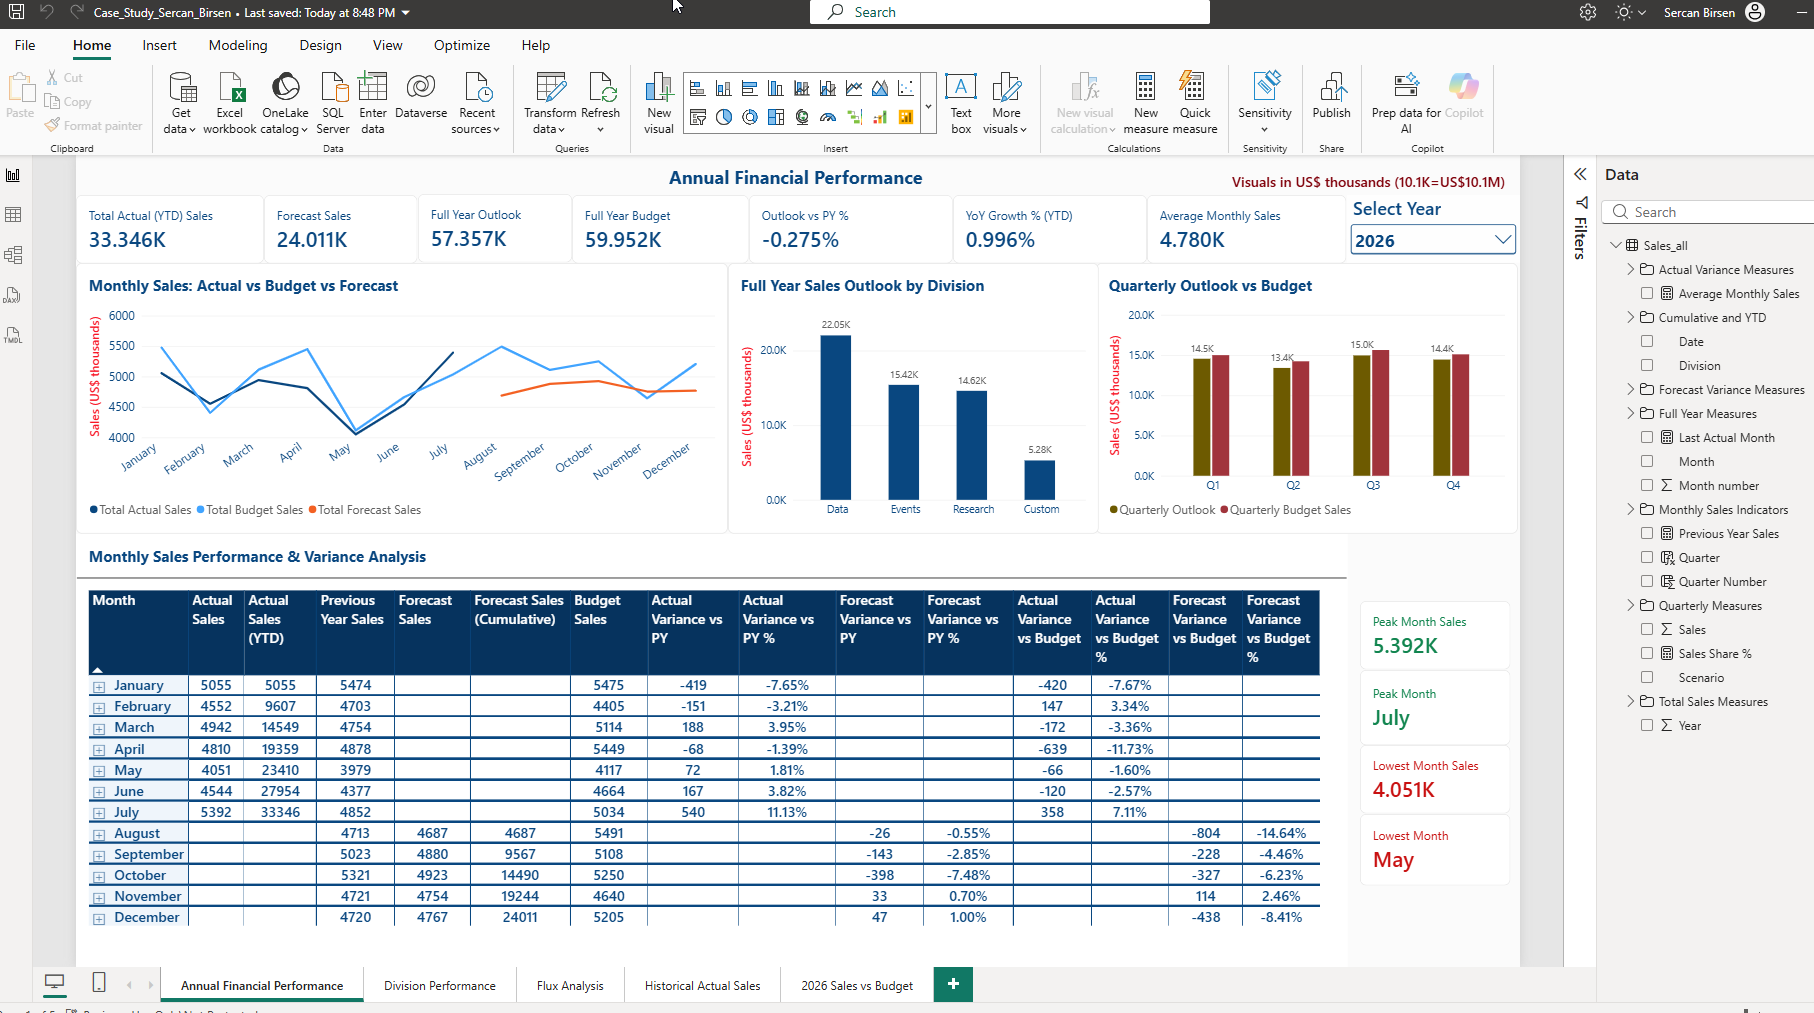

What the dashboard file says about the page in this screenshot:
{"tool":"powerbi","page":{"name":"Annual Financial Performance","canvas":[1920,1080],"ordinal":0},"visuals":[{"type":"slicer","fields":{"Values":["Sales_all.Year"]},"box":[1690.5,53.2,230.1,90.4],"z":0},{"type":"cardVisual","fields":{"Data":["Sales_all.Full Year Outlook"]},"box":[454.9,51.9,205,91.7],"z":1000},{"type":"cardVisual","fields":{"Data":["Sales_all.Total Budget Sales"]},"box":[659.7,53.2,235.4,91.8],"z":2000},{"type":"cardVisual","fields":{"Data":["Sales_all.Total Forecast Sales"]},"box":[250,53.2,204.8,91.8],"z":3000},{"type":"cardVisual","fields":{"Data":["Sales_all.Total Actual Sales"]},"box":[0,53.3,250,91.7],"z":4000},{"type":"cardVisual","fields":{"Data":["Sales_all.Full Year Outlook vs PY %"]},"box":[895.1,53.2,271.3,91.8],"z":5000},{"type":"lineChart","title":"Monthly Sales: Actual vs Budget vs Forecast","fields":{"Category":["Sales_all.Month"],"Y":["Sales_all.Total Actual Sales","Sales_all.Total Budget Sales","Sales_all.Total Forecast Sales"]},"box":[0,144.3,867.1,360],"z":6000},{"type":"pivotTable","title":"Monthly Sales Performance & Variance Analysis","fields":{"Rows":["Sales_all.Month","Sales_all.Division"],"Values":["Sales_all.Total Actual Sales","Sales_all.Actual Sales (YTD)","Sales_all.Previous Year Sales","Sales_all.Total Forecast Sales","Sales_all.Forecast Sales (Cumulative)","Sales_all.Total Budget Sales","Sales_all.Sales Variance vs PY","Sales_all.Actual Variance vs PY %","Sales_all.Forecast Variance vs PY","Sales_all.Forecast Variance vs PY %","Sales_all.Actual vs Budget","Sales_all.Actual vs Budget %"]},"box":[0,503.5,1690.6,576.4],"z":7000},{"type":"textbox","box":[1537.1,22.9,371.4,30],"z":8000},{"type":"cardVisual","fields":{"Data":["Sales_all.YoY Growth % (YTD)"]},"box":[1166.5,53.2,258,91.8],"z":9000},{"type":"cardVisual","fields":{"Data":["Sales_all.Average Monthly Sales"]},"box":[1424.5,53.2,265,91.7],"z":10000},{"type":"clusteredColumnChart","title":"Quarterly Outlook vs Budget","fields":{"Category":["Sales_all.Quarter"],"Y":["Sales_all.Quarterly Outlook","Sales_all.Total Budget Sales"]},"box":[1357.1,144.3,561.4,360],"z":11000},{"type":"columnChart","title":"Full Year Sales Outlook by Division","fields":{"Category":["Sales_all.Division"],"Y":["Sales_all.Full Year Outlook"]},"box":[867.1,144.3,492.9,360],"z":12000},{"type":"cardVisual","fields":{"Data":["Sales_all.Peak Month Sales"]},"box":[1708.3,593.3,200,91.7],"z":13000},{"type":"cardVisual","fields":{"Data":["Sales_all.Peak Month"]},"box":[1708.3,685,200,100],"z":14000},{"type":"textbox","box":[788.6,11.4,341.4,41.4],"z":15000},{"type":"cardVisual","fields":{"Data":["Sales_all.Lowest Sales Month"]},"box":[1708.3,876.7,200,95],"z":16001},{"type":"cardVisual","fields":{"Data":["Sales_all.Lowest Month Sales"]},"box":[1708.3,785,200,91.7],"z":16002}]}

Visuals, with their boxes on the page's 1920x1080 design canvas (x1, y1, x2, y2). These are canvas units, not pixel positions in the 1814x1013 screenshot, which may show the page scaled, cropped or inside an application window:
slicer - Sales_all.Year: Rect(1690, 53, 1921, 144)
cardVisual - Sales_all.Full Year Outlook: Rect(455, 52, 660, 144)
cardVisual - Sales_all.Total Budget Sales: Rect(660, 53, 895, 145)
cardVisual - Sales_all.Total Forecast Sales: Rect(250, 53, 455, 145)
cardVisual - Sales_all.Total Actual Sales: Rect(0, 53, 250, 145)
cardVisual - Sales_all.Full Year Outlook vs PY %: Rect(895, 53, 1166, 145)
"Monthly Sales: Actual vs Budget vs Forecast" lineChart: Rect(0, 144, 867, 504)
"Monthly Sales Performance & Variance Analysis" pivotTable: Rect(0, 504, 1691, 1080)
textbox: Rect(1537, 23, 1908, 53)
cardVisual - Sales_all.YoY Growth % (YTD): Rect(1166, 53, 1424, 145)
cardVisual - Sales_all.Average Monthly Sales: Rect(1424, 53, 1690, 145)
"Quarterly Outlook vs Budget" clusteredColumnChart: Rect(1357, 144, 1918, 504)
"Full Year Sales Outlook by Division" columnChart: Rect(867, 144, 1360, 504)
cardVisual - Sales_all.Peak Month Sales: Rect(1708, 593, 1908, 685)
cardVisual - Sales_all.Peak Month: Rect(1708, 685, 1908, 785)
textbox: Rect(789, 11, 1130, 53)
cardVisual - Sales_all.Lowest Sales Month: Rect(1708, 877, 1908, 972)
cardVisual - Sales_all.Lowest Month Sales: Rect(1708, 785, 1908, 877)
